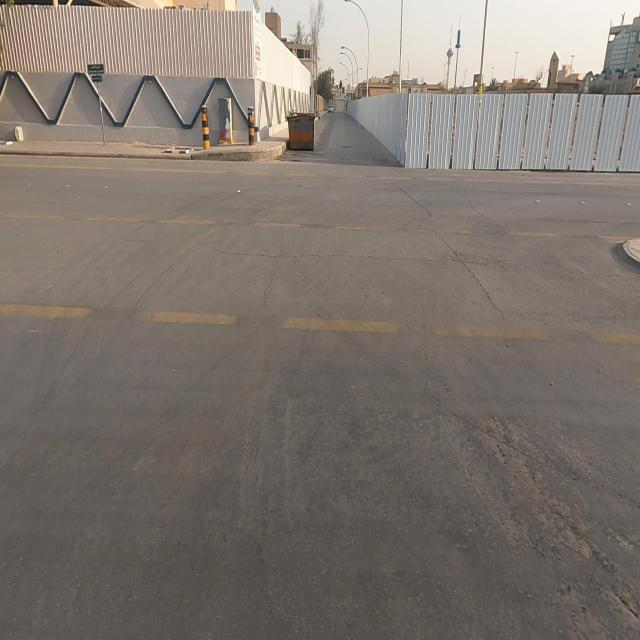debris: (264, 70, 336, 188), (234, 74, 268, 170), (190, 74, 219, 162)
